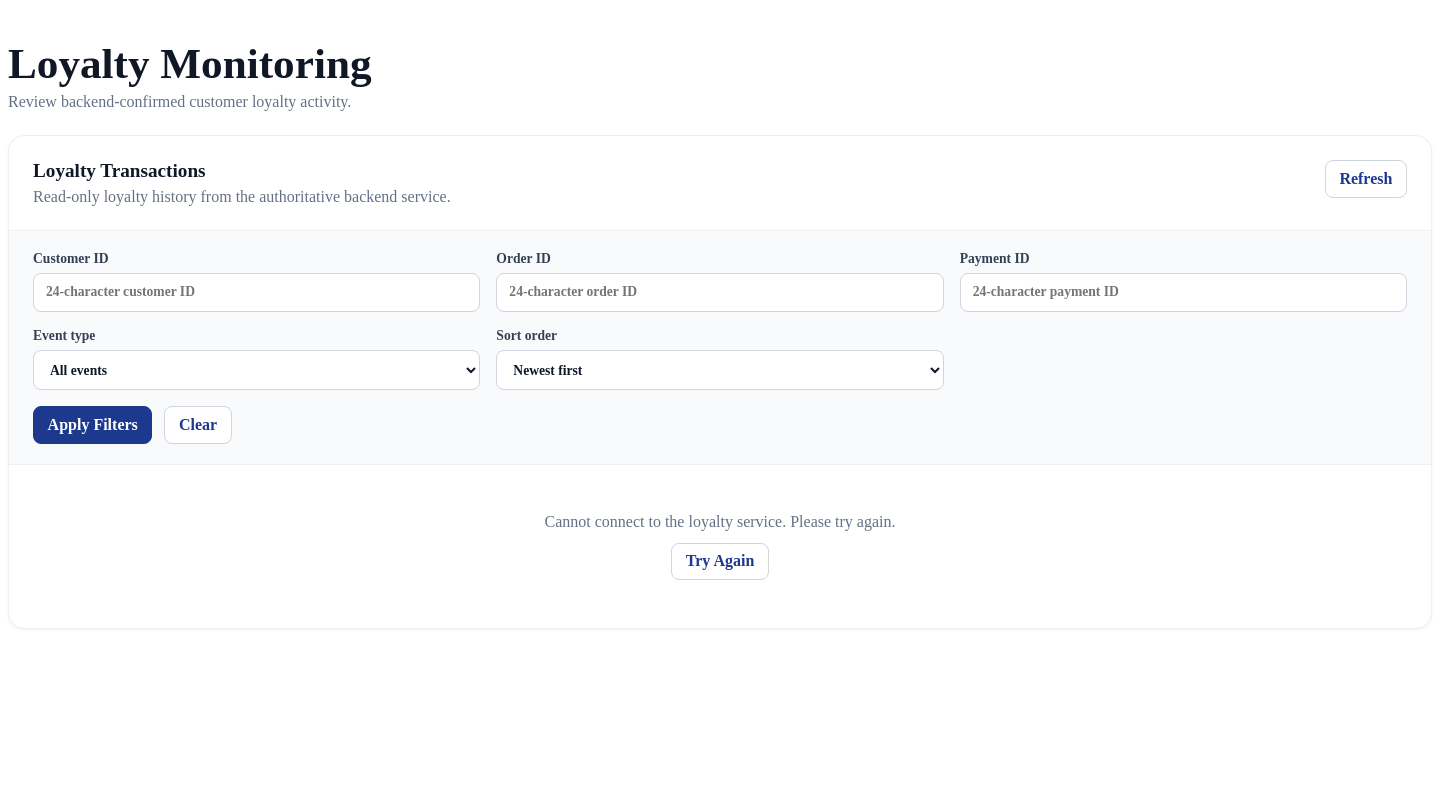
Test: StaffLoyaltyPage › retries after a network failure
expect the message shows "Cannot connect": met, box [544, 513, 896, 530]
Click the button "Try Again". click: (720, 561)
box: [671, 543, 769, 580]
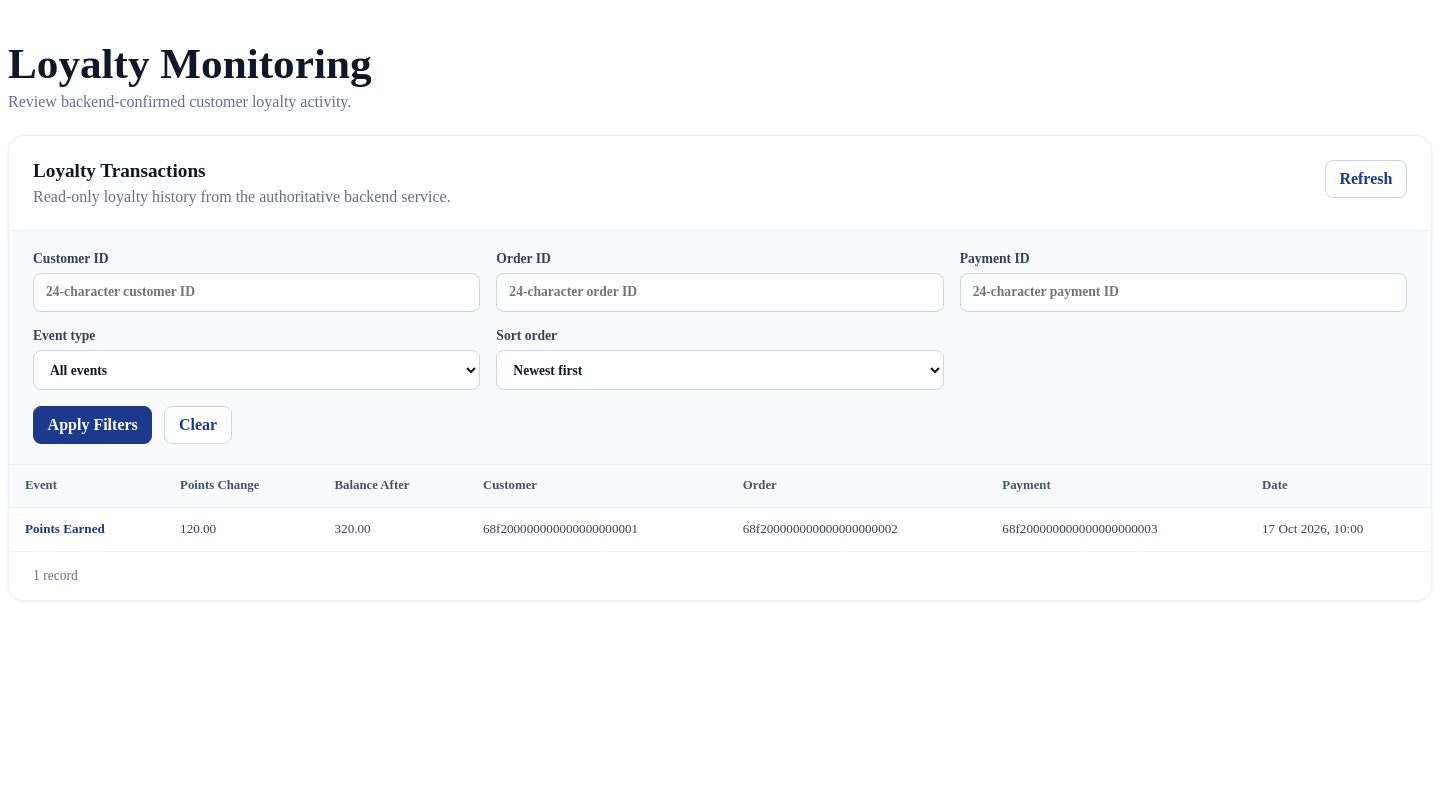
expect the text "Points Earned" is shown: met, box [25, 521, 105, 536]
